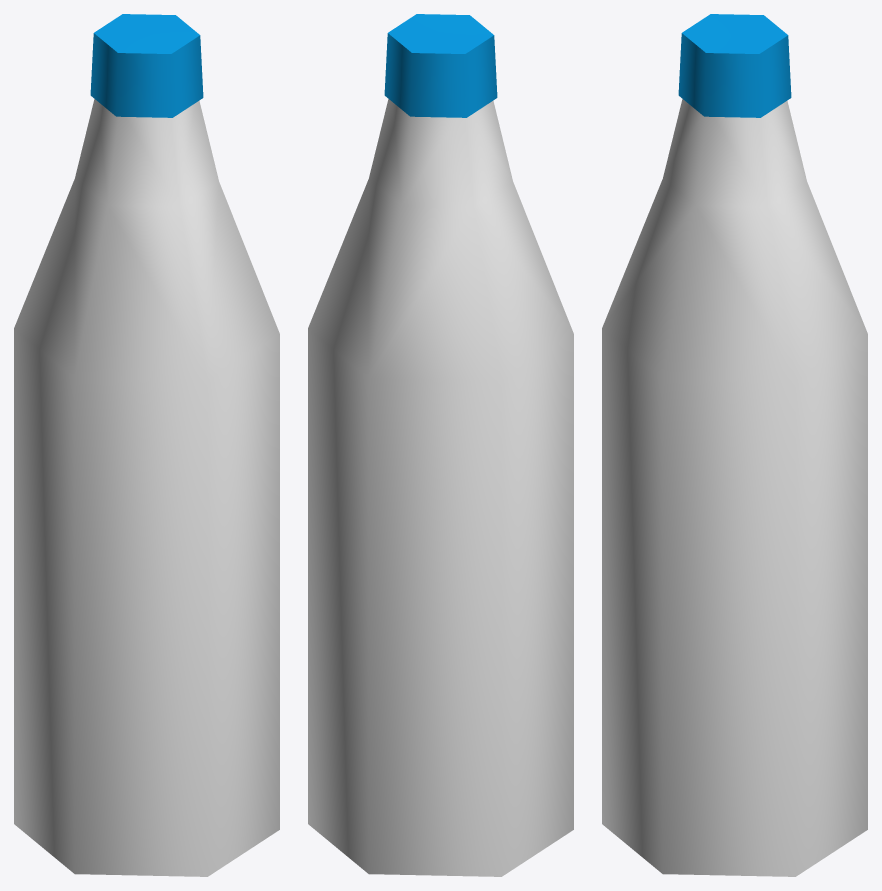
Rendered from SM_drink_002.FBX.
3 renders of one model, left to right at view 1: azimuth 30°, elevation 25°; view 2: azimuth 150°, elevation 25°; view 3: azimuth 270°, elevation 25°, orthographic.
Visible parts, largest first — view 1: SM_drink_002; view 2: SM_drink_002; view 3: SM_drink_002.
Boxes of the visible parts, <box> form: SM_drink_002: <box>14,14,279,876</box>; SM_drink_002: <box>308,14,573,876</box>; SM_drink_002: <box>602,14,867,876</box>.
Size of the model in its own units: 8.02 by 9 by 29.61.
